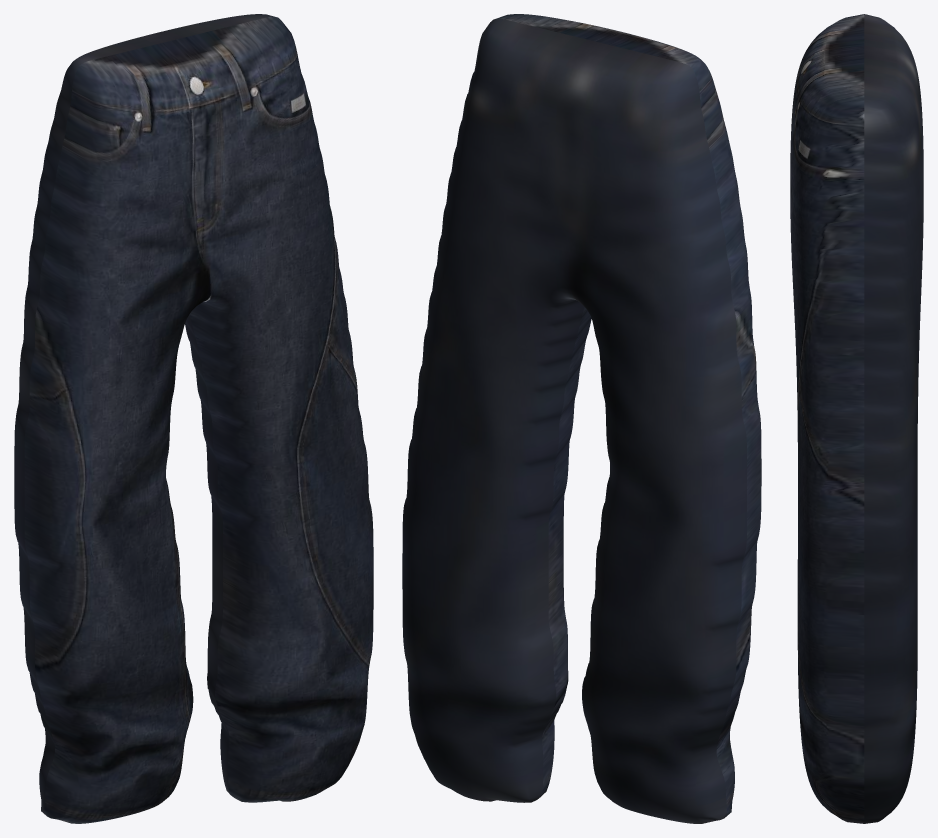
3 views of the same model, side by side, from view 1: azimuth 30°, elevation 25°; view 2: azimuth 150°, elevation 25°; view 3: azimuth 270°, elevation 25° (orthographic). The views are drawn at different scales.
Parts seen in each view (by area): view 1: N02; view 2: N02; view 3: N02.
Boxes of the visible parts, left/top/right/bottom form: N02: left=14, top=14, right=373, bottom=823; N02: left=402, top=14, right=761, bottom=823; N02: left=790, top=14, right=923, bottom=823.
Size of the model in its own units: 0.768 by 1.72 by 0.2925.
Materials: 2 (2 with a texture image).
